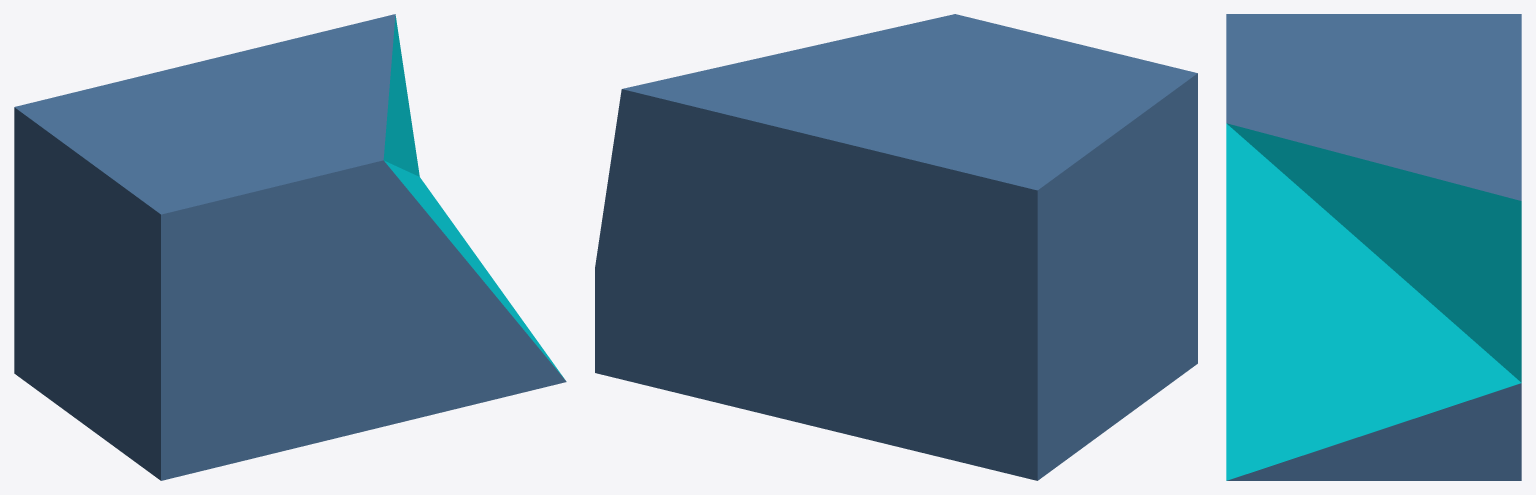
The picture shows the model from 3 angles, left to right: view 1: azimuth 30°, elevation 25°; view 2: azimuth 150°, elevation 25°; view 3: azimuth 270°, elevation 25°; orthographic projection. The views are drawn at different scales.
Visible parts, largest first — view 1: base; view 2: base; view 3: base.
Part boxes in pixels (box(x1,y1,x2,y2)): base: box(14, 14, 566, 480); base: box(595, 14, 1197, 480); base: box(1226, 14, 1521, 480).
Size of the model in its own units: 92.98 by 58.33 by 58.33.
